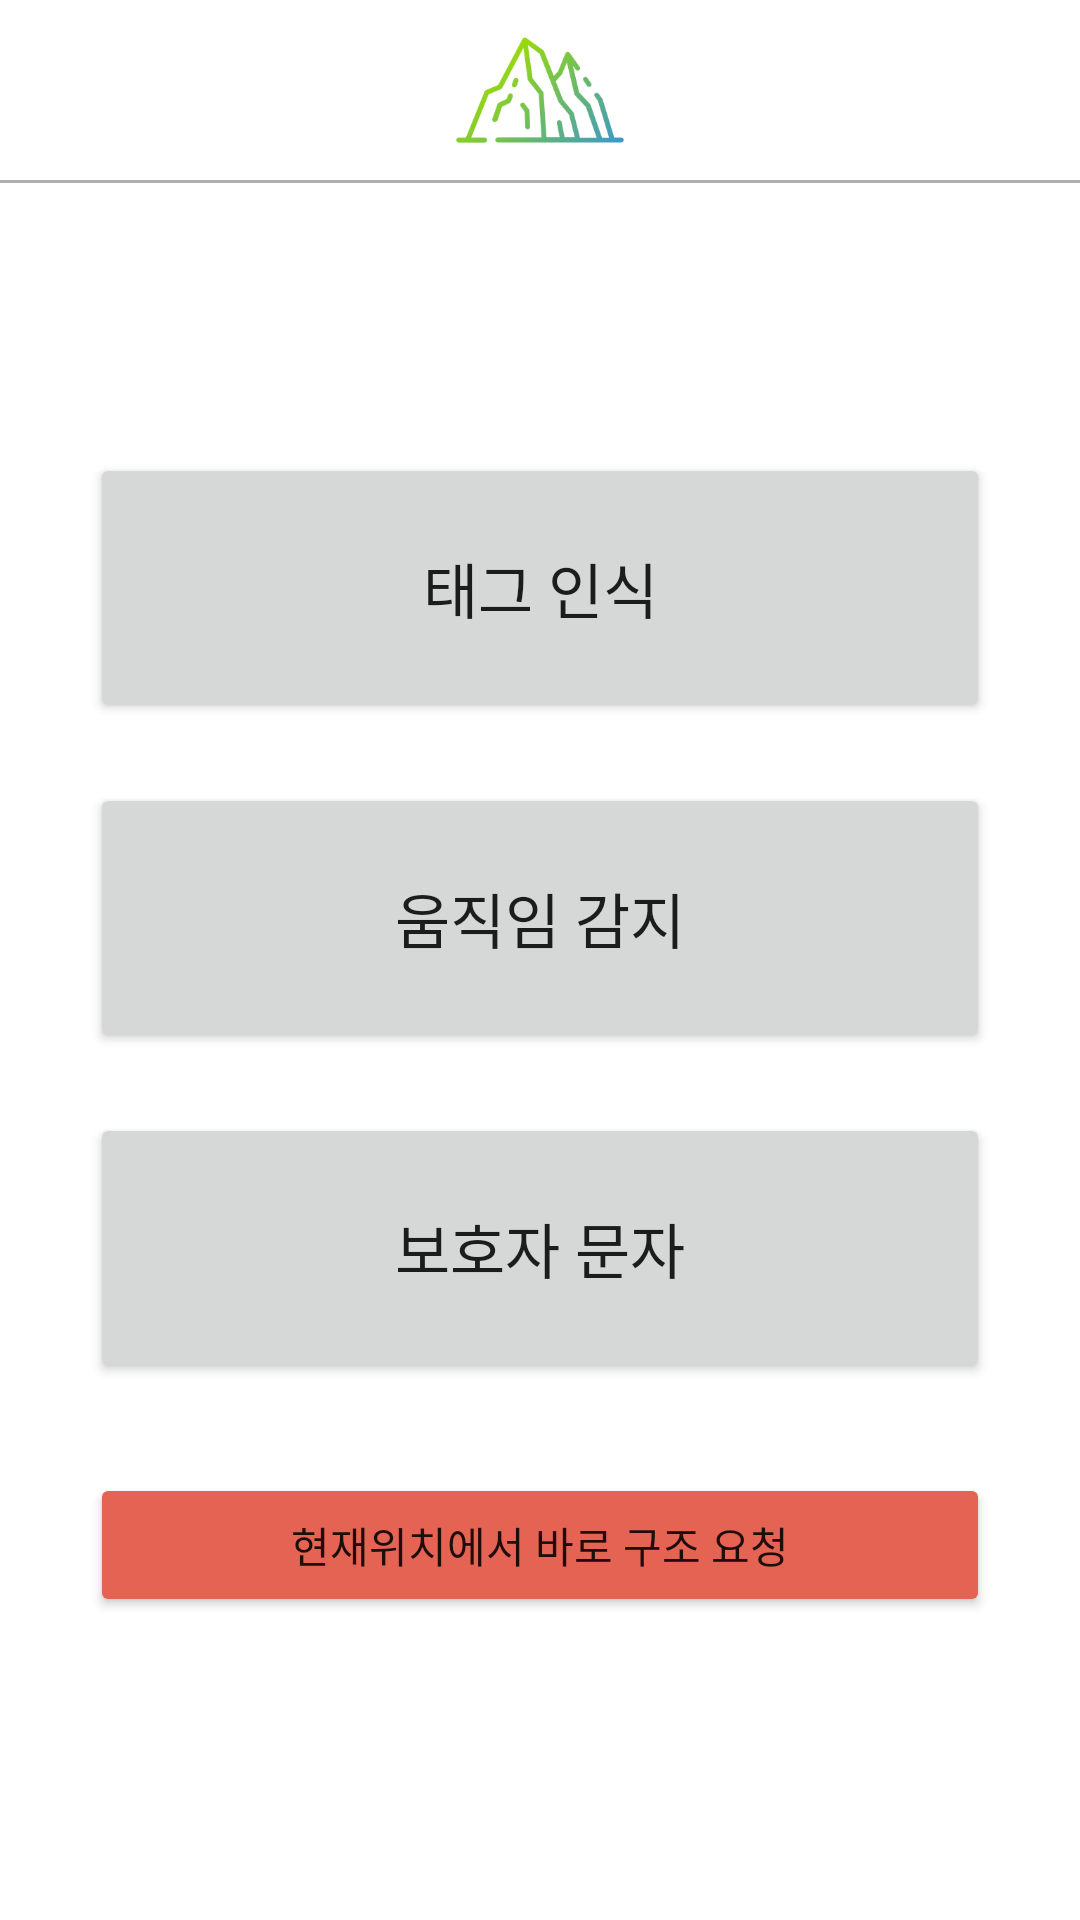

Point at icon controls on the screen. Image size 1080×1920, points as (x=x, y=y).
mountain: (x=540, y=90)
